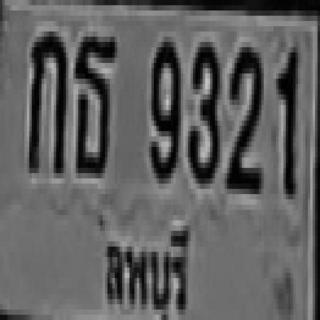A01: (28, 31, 67, 173)
A24: (74, 35, 116, 176)
N01: (276, 45, 298, 198)
N02: (225, 45, 264, 193)
N03: (188, 41, 219, 183)
N09: (149, 39, 180, 182)
P23: (96, 211, 190, 320)
